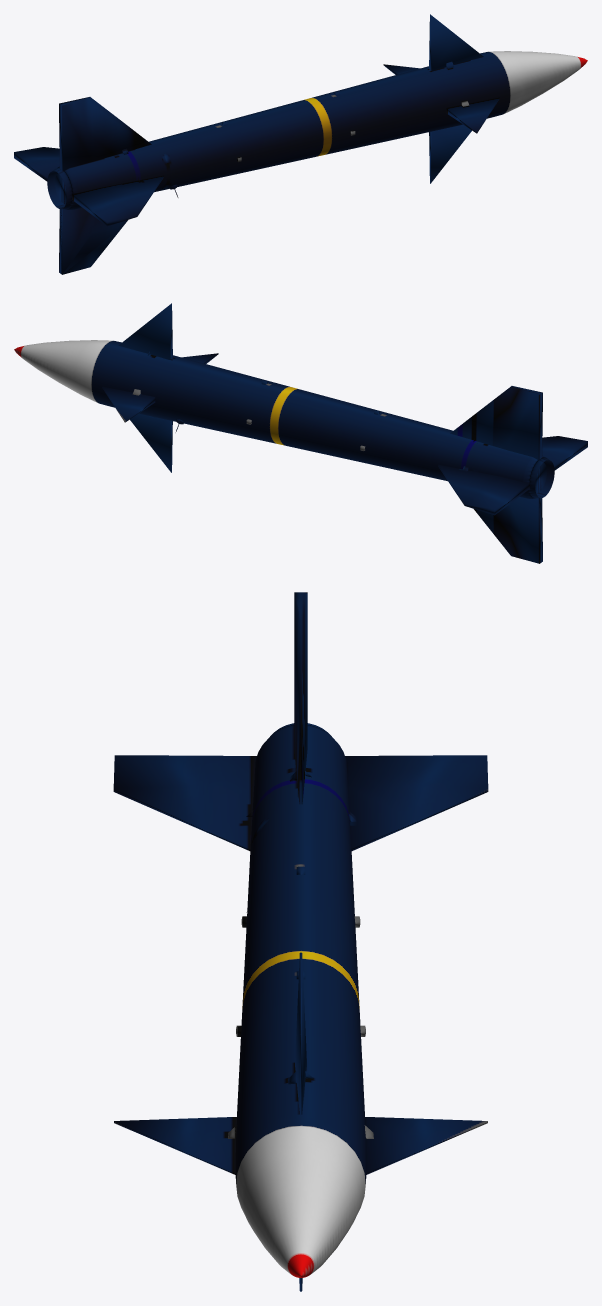
The model's file is missile02.obj.
3 views of the same model, one above another, from view 1: azimuth 30°, elevation 25°; view 2: azimuth 150°, elevation 25°; view 3: azimuth 270°, elevation 25° (orthographic). The views are drawn at different scales.
Parts seen in each view (by area): view 1: Cylinder; view 2: Cylinder; view 3: Cylinder.
Boxes of the visible parts, x1=… form: Cylinder: x1=14, y1=14, x2=587, y2=274; Cylinder: x1=14, y1=303, x2=587, y2=563; Cylinder: x1=113, y1=592, x2=488, y2=1291.
Size of the model in its own units: 3.83 by 1.17 by 1.17.
Materials: 1 (1 with a texture image).
